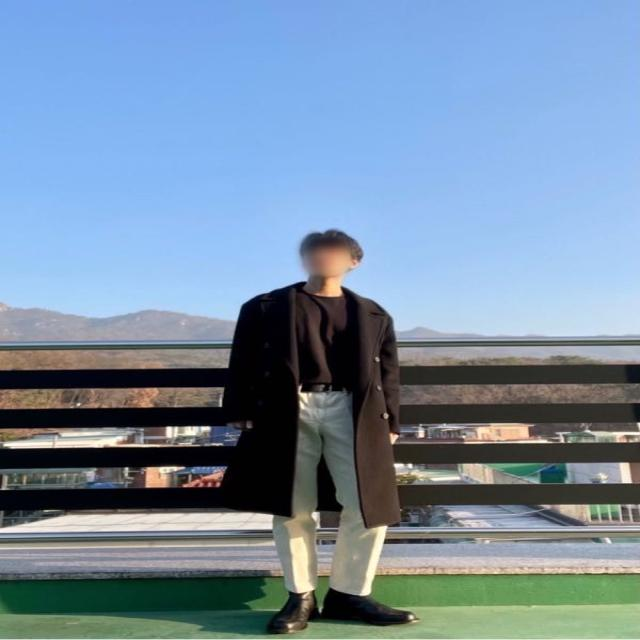coat: (218, 283, 402, 526)
cottonpants: (271, 383, 389, 596)
